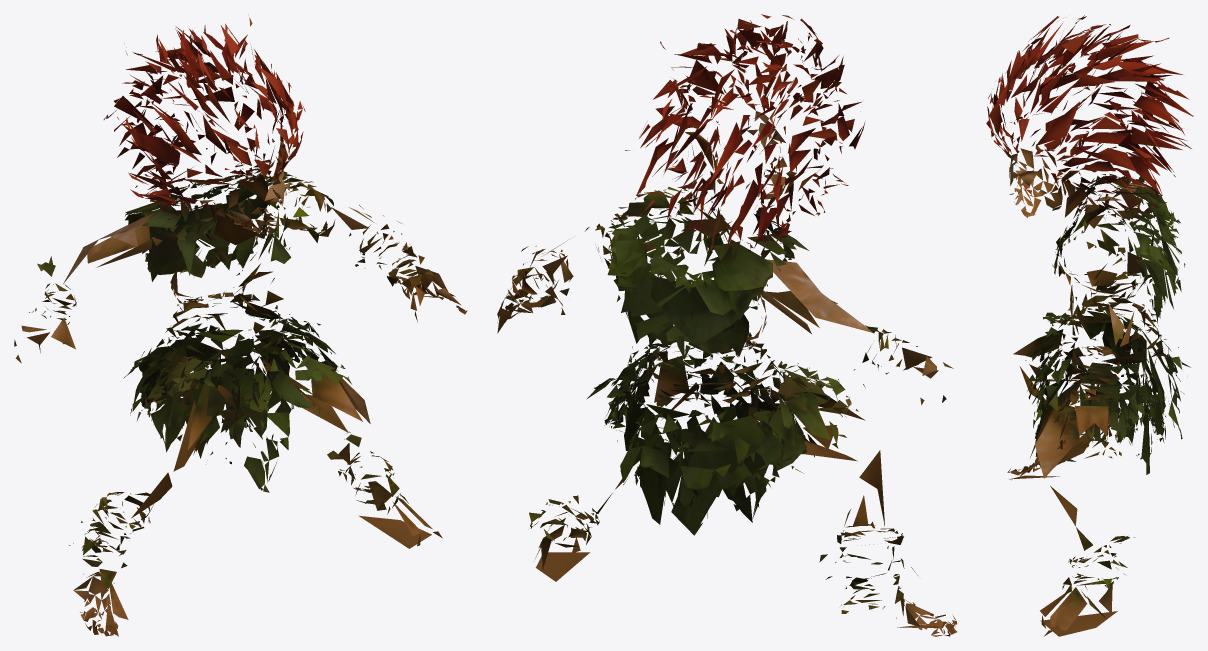
Rendered from demo_vanguard_01.glb.
3 renders of one model, left to right at view 1: azimuth 30°, elevation 25°; view 2: azimuth 150°, elevation 25°; view 3: azimuth 270°, elevation 25°, orthographic. The views are drawn at different scales.
Parts seen in each view (by area): view 1: node_0; view 2: node_0; view 3: node_0.
Part boxes in pixels (bbox=[...]): node_0: bbox=[14, 14, 467, 636]; node_0: bbox=[497, 14, 957, 636]; node_0: bbox=[986, 15, 1193, 636].
Size of the model in its own units: 0.7869 by 0.9752 by 0.3502.
1 material, 1 textured.
